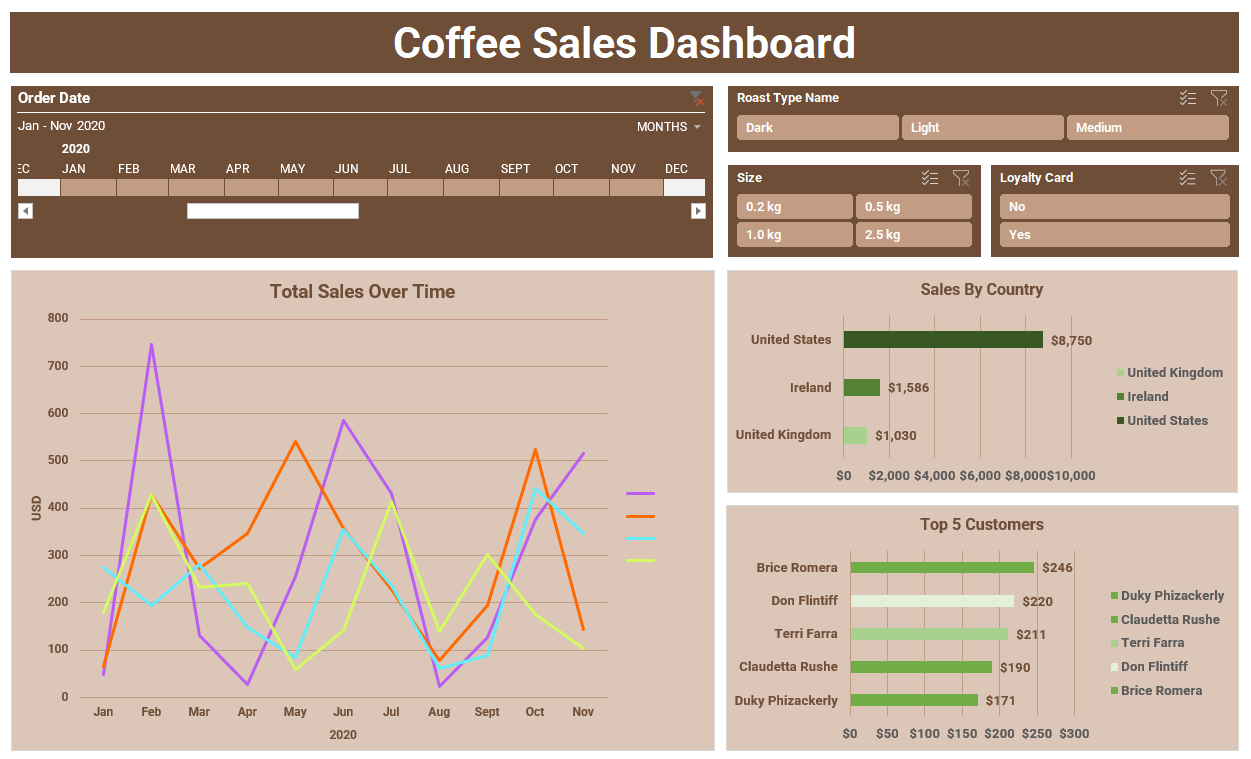

This screenshot's page, from the dashboard's own definition file:
{"tool":"powerbi","page":{"name":"Charts & KPIs","canvas":[1280,720],"ordinal":0},"visuals":[{"type":"actionButton","box":[0,0,1280,719.8],"z":0},{"type":"lineClusteredColumnComboChart","title":"Sales over Time","fields":{"Category":["Orders.Order Date.Variation.Date Hierarchy.Year"],"Y":["Key Measures.Total Sales Amount"]},"box":[17.5,74.9,466.9,268.4],"z":1000},{"type":"cardVisual","fields":{"Data":["Key Measures.Total Sales Amount"]},"box":[11.7,354,190,73.9],"z":2000},{"type":"cardVisual","fields":{"Data":["Key Measures.Average Order Value"]},"box":[399.8,353.1,190,74.9],"z":3000},{"type":"cardVisual","fields":{"Data":["Key Measures.Count of Orders"]},"box":[593.8,355,190,72.9],"z":4000},{"type":"cardVisual","fields":{"Data":["Key Measures.Total Profit Amount"]},"box":[205.7,354,190,73.9],"z":5000},{"type":"cardVisual","fields":{"Data":["Key Measures.Profit Margin %"]},"box":[787.8,356,189.7,72],"z":6000},{"type":"azureMap","title":"Sales by Country","fields":{"Category":["Customers.Country"],"Size":["Key Measures.Total Sales Amount"]},"box":[501.9,437.7,466.9,268.4],"z":7000},{"type":"barChart","title":"Top 5 Customers","fields":{"Category":["Customers.Customer Name"],"Y":["Key Measures.Total Sales Amount"]},"box":[501.9,74.9,466.9,268.4],"z":8000},{"type":"lineStackedColumnComboChart","title":"Pareto Chart","fields":{"Y":["Key Measures.Total Sales Amount"],"Category":["Customers.Customer Name"],"Y2":["Key Measures.Pareto % Cumulative"]},"box":[17.5,437.7,466.9,268.4],"z":9000},{"type":"slicer","title":"Order Date Range","fields":{"Values":["Orders.Order Date"]},"box":[985.3,127.4,280.1,130.3],"z":10000},{"type":"advancedSlicerVisual","fields":{"Values":["Products.Size"]},"box":[985.3,404.6,280.1,119.6],"z":11000},{"type":"advancedSlicerVisual","fields":{"Values":["Customers.Loyalty Card"]},"box":[985.3,631.2,280.1,74.9],"z":12000},{"type":"advancedSlicerVisual","fields":{"Values":["Products.Roast Type"]},"box":[985.3,540.8,280.1,74.9],"z":13000},{"type":"advancedSlicerVisual","fields":{"Values":["Products.Coffee Type"]},"box":[985.3,271.4,280.1,119.6],"z":14000},{"type":"actionButton","box":[17.5,13.6,1247.9,43.8],"z":15000},{"type":"actionButton","box":[985.3,74.9,280.1,38.9],"z":16000}]}

Visuals, with their boxes on the page's 1280x720 design canvas (x1, y1, x2, y2). These are canvas units, not pixel positions in the 1251x759 screenshot, which may show the page scaled, cropped or inside an application window:
actionButton: 0/0/1280/720
"Sales over Time" lineClusteredColumnComboChart: 18/75/484/343
cardVisual - Key Measures.Total Sales Amount: 12/354/202/428
cardVisual - Key Measures.Average Order Value: 400/353/590/428
cardVisual - Key Measures.Count of Orders: 594/355/784/428
cardVisual - Key Measures.Total Profit Amount: 206/354/396/428
cardVisual - Key Measures.Profit Margin %: 788/356/978/428
"Sales by Country" azureMap: 502/438/969/706
"Top 5 Customers" barChart: 502/75/969/343
"Pareto Chart" lineStackedColumnComboChart: 18/438/484/706
"Order Date Range" slicer: 985/127/1265/258
advancedSlicerVisual - Products.Size: 985/405/1265/524
advancedSlicerVisual - Customers.Loyalty Card: 985/631/1265/706
advancedSlicerVisual - Products.Roast Type: 985/541/1265/616
advancedSlicerVisual - Products.Coffee Type: 985/271/1265/391
actionButton: 18/14/1265/57
actionButton: 985/75/1265/114
